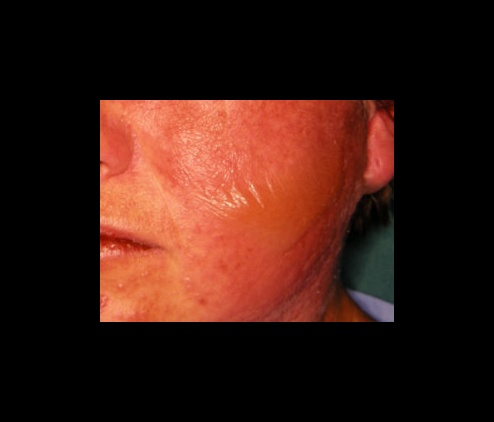SJS-TEN: (93, 94, 397, 326)
